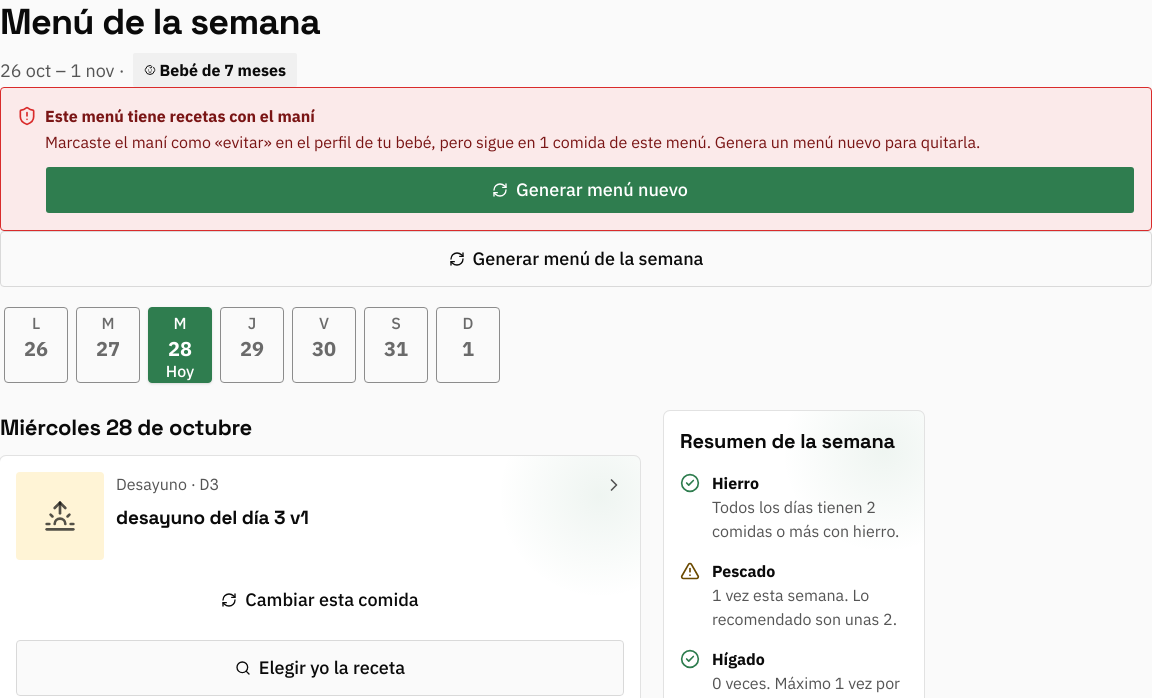
Test: menú con un alérgeno que ahora se evita › avisa, marca la receta en rojo y ofrece generar de nuevo
Check: the text "Este menú tiene recetas con el maní" is shown, box [45,106,315,126]
Check: the text "sigue en 1 comida de este menú" is shown, box [45,130,1135,214]
What coordinates should you click on to do the following:
click the button "Generar menú nuevo"
I would click on:
 (590, 190)
Its box is [45,166,1135,214].
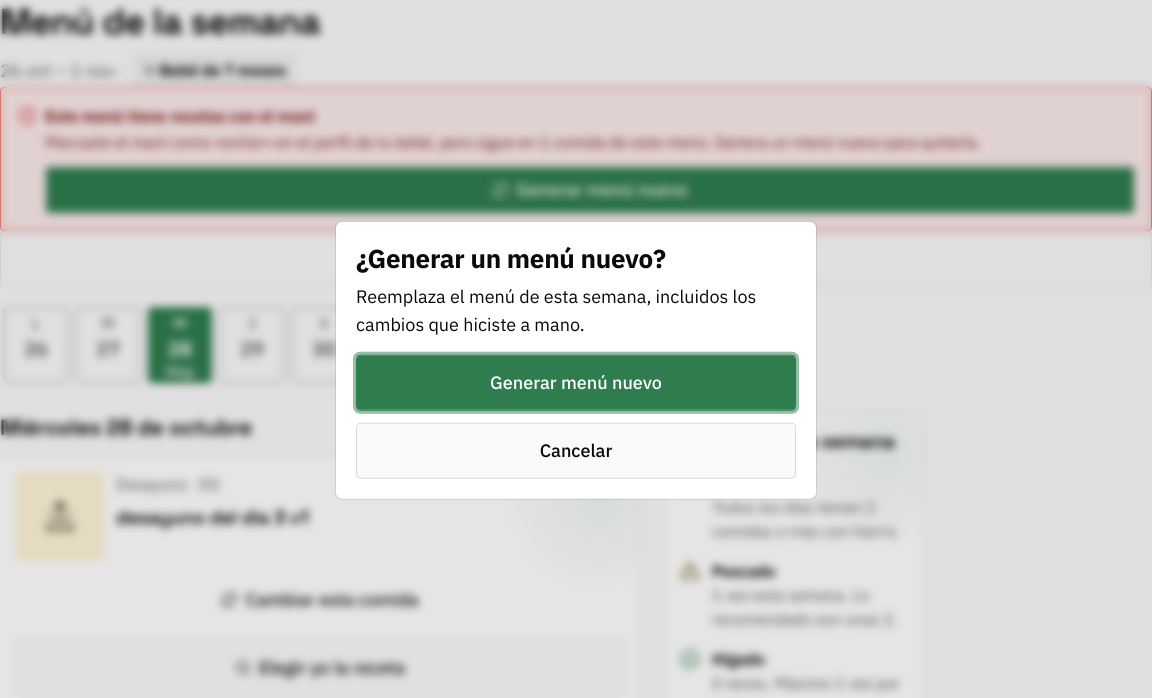
con el diálogo abierto, el resto de la página queda oculto: solo hay un botón accesible con ese nombre
What coordinates should you click on to do the following:
click the button "Generar menú nuevo"
I would click on:
 (576, 382)
Its box is [356,354,796,410].
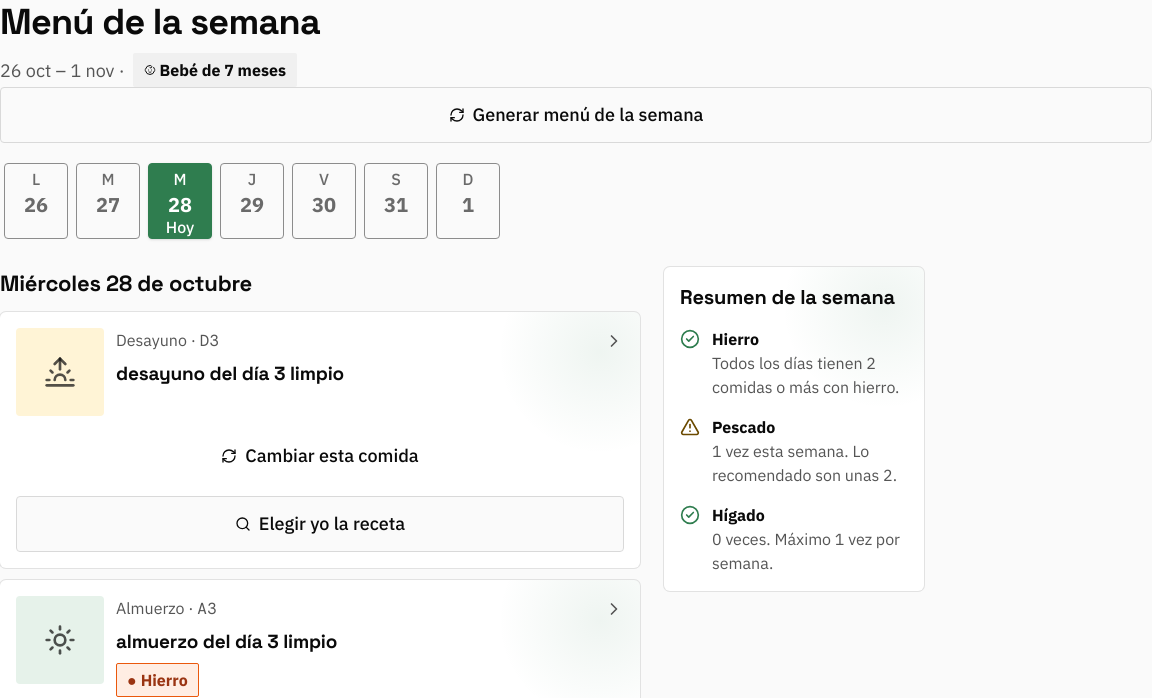
Check: the text "Este menú tiene recetas con" is gone
